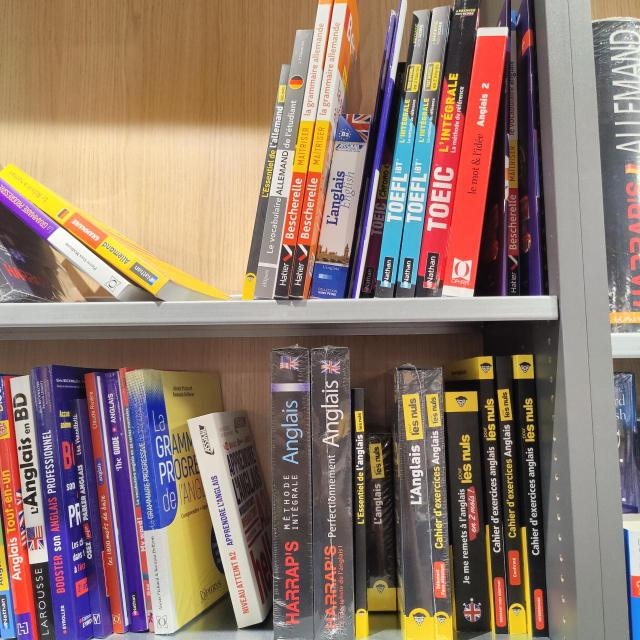book: (0, 166, 169, 294), (414, 0, 479, 298), (442, 27, 508, 296), (274, 0, 333, 298), (289, 0, 348, 297), (352, 1, 409, 298), (254, 30, 314, 298), (374, 9, 429, 299), (188, 414, 262, 629), (397, 6, 451, 298), (0, 179, 129, 296), (31, 365, 78, 640), (310, 348, 354, 639), (271, 348, 314, 640), (127, 369, 174, 634), (11, 376, 56, 640), (101, 373, 147, 631), (243, 62, 291, 301), (309, 114, 371, 299), (445, 391, 491, 632), (360, 62, 406, 298), (84, 372, 124, 633), (514, 355, 548, 636), (119, 368, 155, 631), (401, 370, 434, 639), (1, 377, 34, 639), (68, 399, 104, 638), (496, 357, 527, 634), (478, 356, 508, 633), (424, 370, 453, 639), (528, 0, 548, 295), (365, 432, 397, 612), (354, 387, 370, 639), (508, 11, 519, 296)
